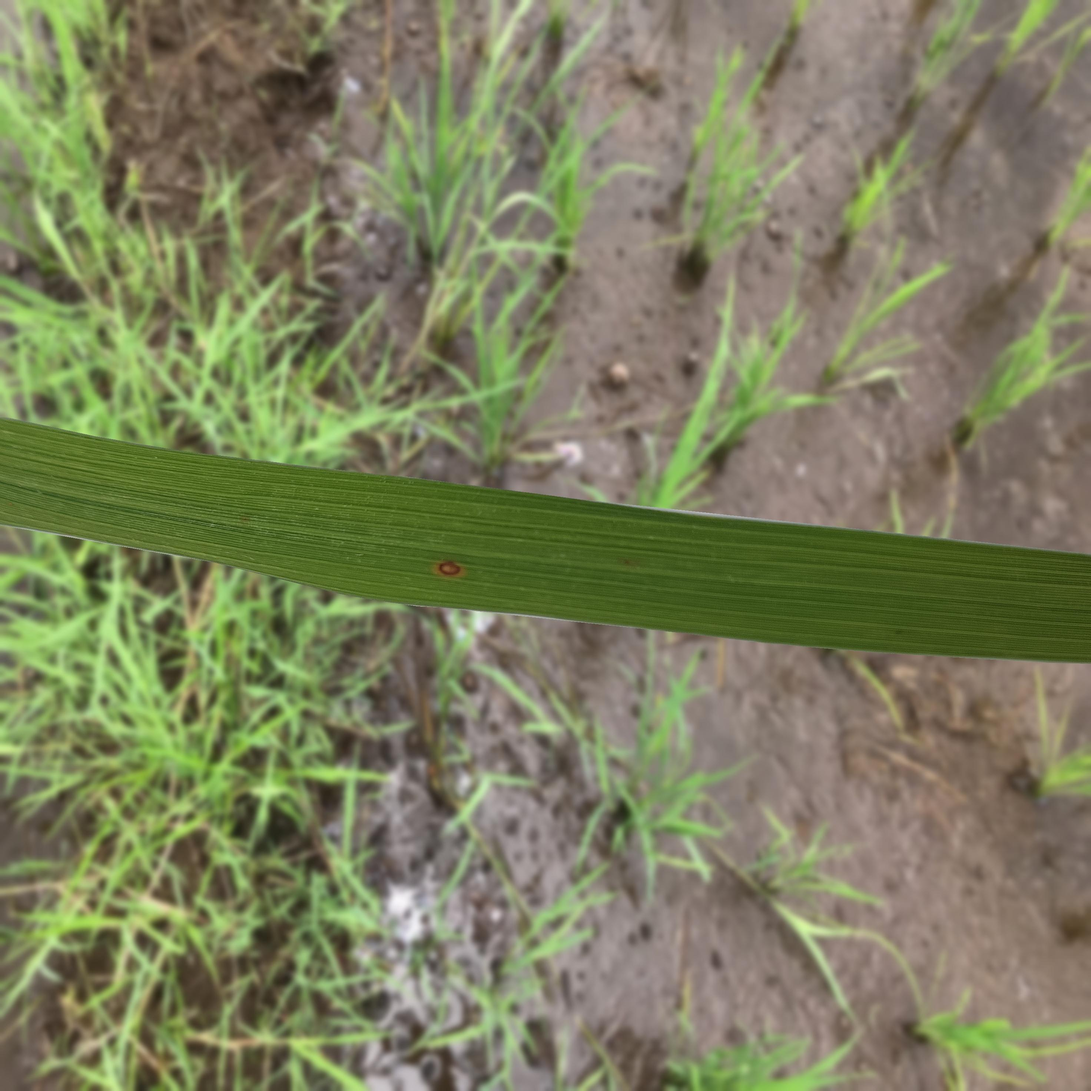LEAF BLAST: (439, 562, 462, 576)
